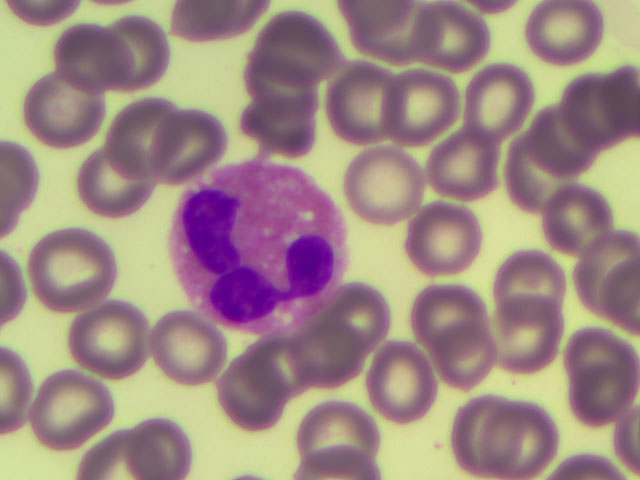RBC: (30, 229, 117, 312), (573, 330, 638, 427), (346, 149, 421, 226), (75, 143, 154, 216), (369, 338, 434, 426), (493, 294, 565, 372), (411, 2, 490, 73), (299, 399, 381, 467), (76, 302, 152, 375), (332, 62, 400, 143), (259, 13, 334, 85), (400, 202, 478, 271), (577, 232, 640, 317), (416, 283, 489, 356), (110, 101, 184, 171), (524, 2, 603, 67), (25, 74, 98, 144), (390, 67, 455, 145), (459, 396, 527, 470), (488, 402, 553, 479), (509, 136, 574, 213), (151, 315, 222, 384), (543, 187, 612, 258), (246, 50, 318, 118), (59, 26, 132, 93), (219, 352, 286, 425), (38, 373, 105, 445), (500, 251, 567, 323), (429, 136, 501, 202), (103, 16, 170, 86), (572, 353, 632, 429), (468, 63, 526, 141), (354, 6, 427, 67), (563, 77, 629, 144), (435, 324, 497, 395), (152, 114, 224, 175), (284, 331, 362, 387), (535, 102, 592, 177), (246, 101, 319, 159), (78, 431, 163, 480), (325, 289, 387, 354), (130, 418, 193, 480), (246, 338, 313, 394), (168, 1, 255, 40), (600, 260, 640, 332), (603, 65, 640, 141), (3, 347, 32, 435), (298, 449, 378, 480), (1, 141, 35, 213), (335, 1, 411, 31), (1, 250, 27, 326)
WBC: (181, 174, 349, 327)
